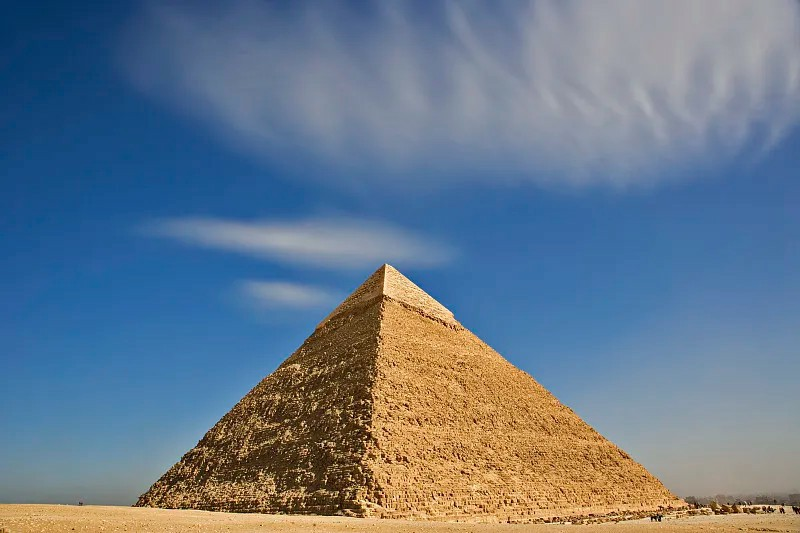Pyramid: (132, 262, 698, 515)
